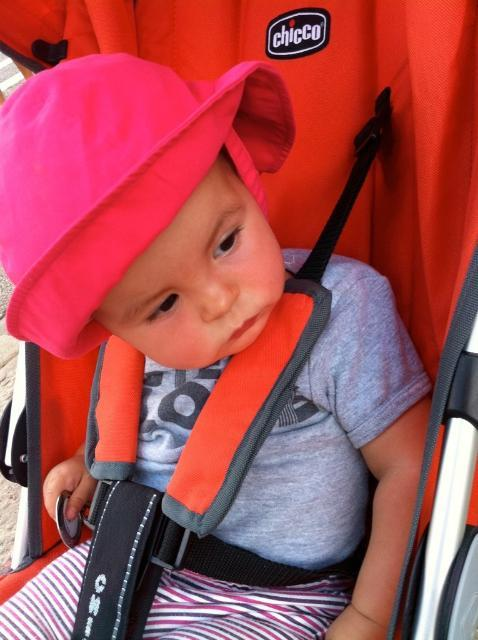SafeDriving: (140, 270, 188, 327), (208, 210, 248, 266)
Seatbelt: (148, 88, 390, 564), (379, 251, 477, 637)
